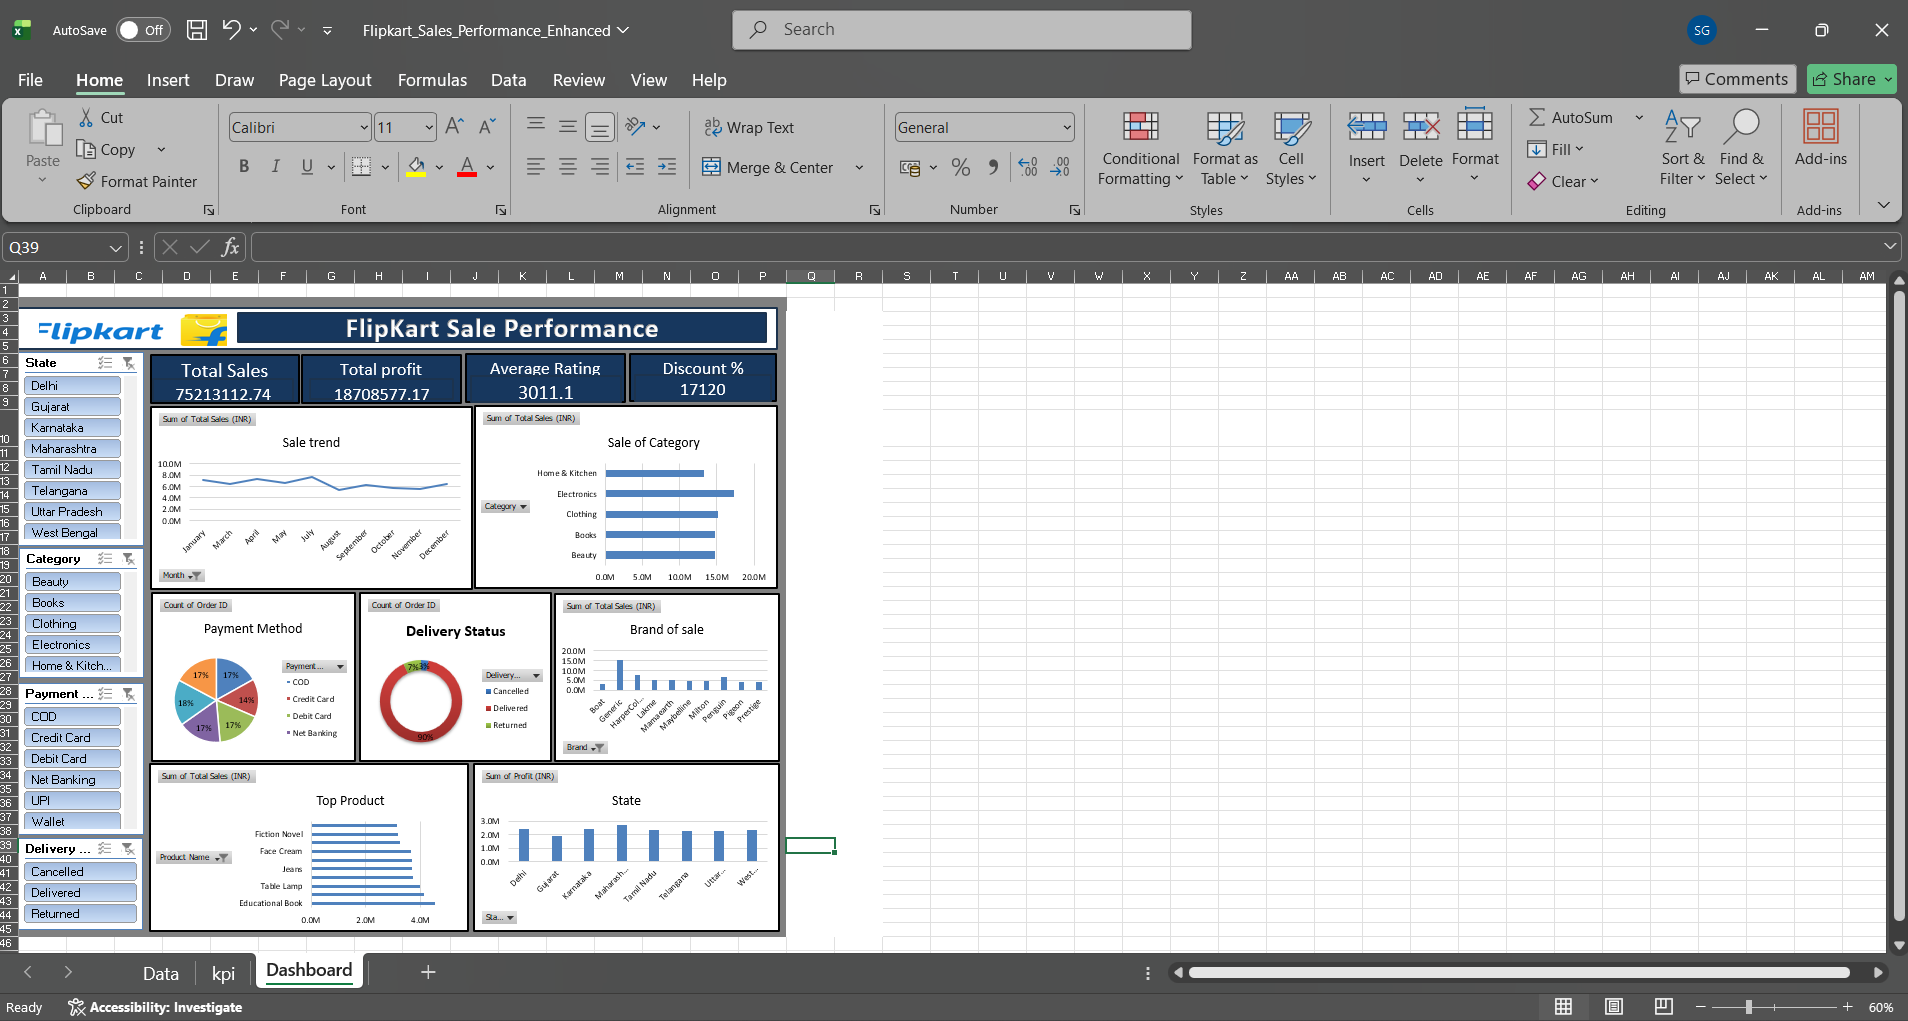

Layout of this report page (visuals, bound fields, positions):
{"tool":"powerbi","page":{"name":"Page 1","canvas":[1280,720],"ordinal":0},"visuals":[{"type":"textbox","box":[9.8,0,1259.5,57.5],"z":0},{"type":"cardVisual","fields":{"Data":["Sum(Data.Rating)"]},"box":[796.3,70,241.3,102.5],"z":1000},{"type":"cardVisual","fields":{"Data":["Sum(Data.Discount %)"]},"box":[1047.2,70,222,102.5],"z":2000},{"type":"cardVisual","fields":{"Data":["Sum(Data.Profit Margin %)"]},"box":[491,70,296.8,102.5],"z":3000},{"type":"lineChart","fields":{"Category":["Data.Month.Variation.Date Hierarchy.Month"],"Y":["Sum(Data.Sales)"]},"box":[213.8,181.2,528.8,178.8],"z":4000},{"type":"hundredPercentStackedColumnChart","fields":{"Y":["Sum(Data.Sales)"],"Category":["Data.Category"]},"box":[751.2,181.2,518.8,178.8],"z":5000},{"type":"pieChart","fields":{"Y":["CountNonNull(Data.Order ID)"],"Category":["Data.Delivery Status"]},"box":[583.3,369.3,326.5,156.5],"z":6000},{"type":"barChart","fields":{"Category":["Data.Product Name"],"Y":["Sum(Data.Sales)"]},"box":[917.1,369.3,352.2,156.5],"z":7000},{"type":"barChart","fields":{"Y":["Sum(Data.Sales)"],"Category":["Data.State"]},"box":[214,533.2,528.3,187.1],"z":8000},{"type":"hundredPercentStackedColumnChart","fields":{"Category":["Data.Brand"],"Y":["Sum(Data.Sales)"]},"box":[750.8,533.2,518.5,187.1],"z":9000},{"type":"slicer","fields":{"Values":["Data.State"]},"box":[9.8,69.7,194.4,145.5],"z":10000},{"type":"slicer","fields":{"Values":["Data.Delivery Status"]},"box":[11,223.8,194.4,101.5],"z":11000},{"type":"slicer","fields":{"Values":["Data.Category"]},"box":[11,333.8,194.4,122.3],"z":12000},{"type":"slicer","fields":{"Values":["Data.Payment Method"]},"box":[9.8,464.7,194.4,122.3],"z":13000},{"type":"slicer","fields":{"Values":["Data.Brand"]},"box":[11,594.3,193.2,126],"z":14000},{"type":"cardVisual","fields":{"Data":["Sum(Data.Profit)"]},"box":[213.5,70,264.2,102.5],"z":15000},{"type":"donutChart","fields":{"Category":["Data.Payment Method"],"Y":["Sum(Data.Sales)"]},"box":[213.9,369.6,359.5,155.7],"z":17000},{"type":"image","box":[10.9,0,466.9,49.5],"z":18000}]}

Visuals, with their boxes on the page's 1280x720 design canvas (x1, y1, x2, y2). These are canvas units, not pixel positions in the 1908x1021 screenshot, which may show the page scaled, cropped or inside an application window:
textbox: box=[10, 0, 1269, 58]
cardVisual - Sum(Data.Rating): box=[796, 70, 1038, 172]
cardVisual - Sum(Data.Discount %): box=[1047, 70, 1269, 172]
cardVisual - Sum(Data.Profit Margin %): box=[491, 70, 788, 172]
lineChart - Data.Month.Variation.Date Hierarchy.Month x Sum(Data.Sales): box=[214, 181, 743, 360]
hundredPercentStackedColumnChart - Sum(Data.Sales) x Data.Category: box=[751, 181, 1270, 360]
pieChart - CountNonNull(Data.Order ID) x Data.Delivery Status: box=[583, 369, 910, 526]
barChart - Data.Product Name x Sum(Data.Sales): box=[917, 369, 1269, 526]
barChart - Sum(Data.Sales) x Data.State: box=[214, 533, 742, 720]
hundredPercentStackedColumnChart - Data.Brand x Sum(Data.Sales): box=[751, 533, 1269, 720]
slicer - Data.State: box=[10, 70, 204, 215]
slicer - Data.Delivery Status: box=[11, 224, 205, 325]
slicer - Data.Category: box=[11, 334, 205, 456]
slicer - Data.Payment Method: box=[10, 465, 204, 587]
slicer - Data.Brand: box=[11, 594, 204, 720]
cardVisual - Sum(Data.Profit): box=[214, 70, 478, 172]
donutChart - Data.Payment Method x Sum(Data.Sales): box=[214, 370, 573, 525]
image: box=[11, 0, 478, 50]
